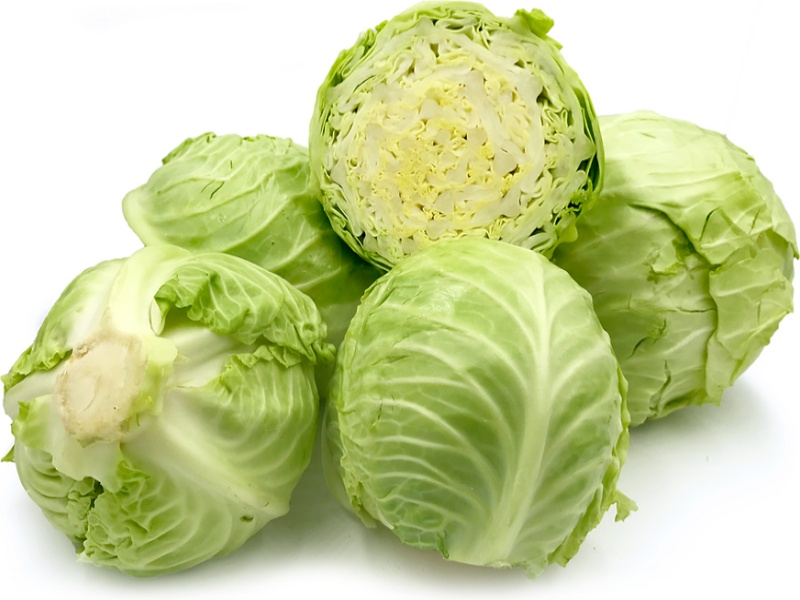Repollo: (320, 234, 650, 594), (5, 240, 336, 575), (302, 1, 621, 284), (519, 93, 800, 406), (108, 116, 391, 364)
